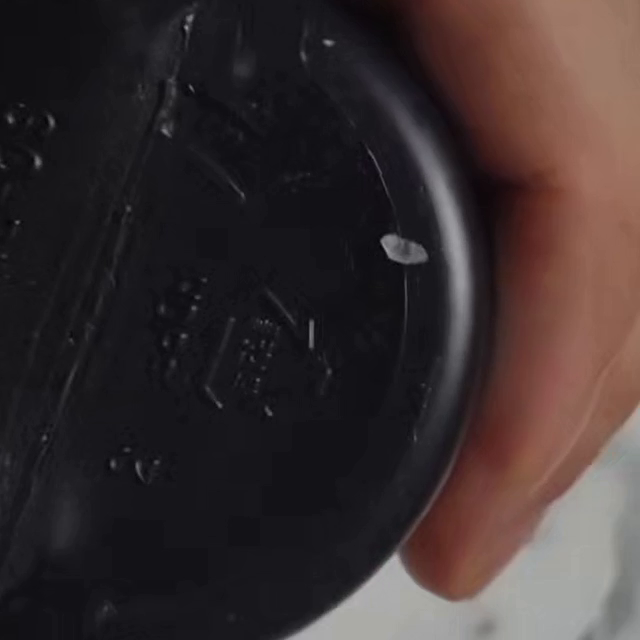Plastic: (201, 294, 340, 425)
